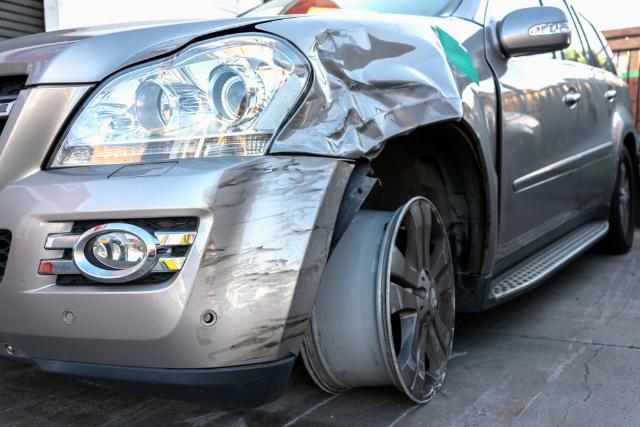dent: (278, 23, 463, 154)
scratch: (194, 155, 353, 368)
